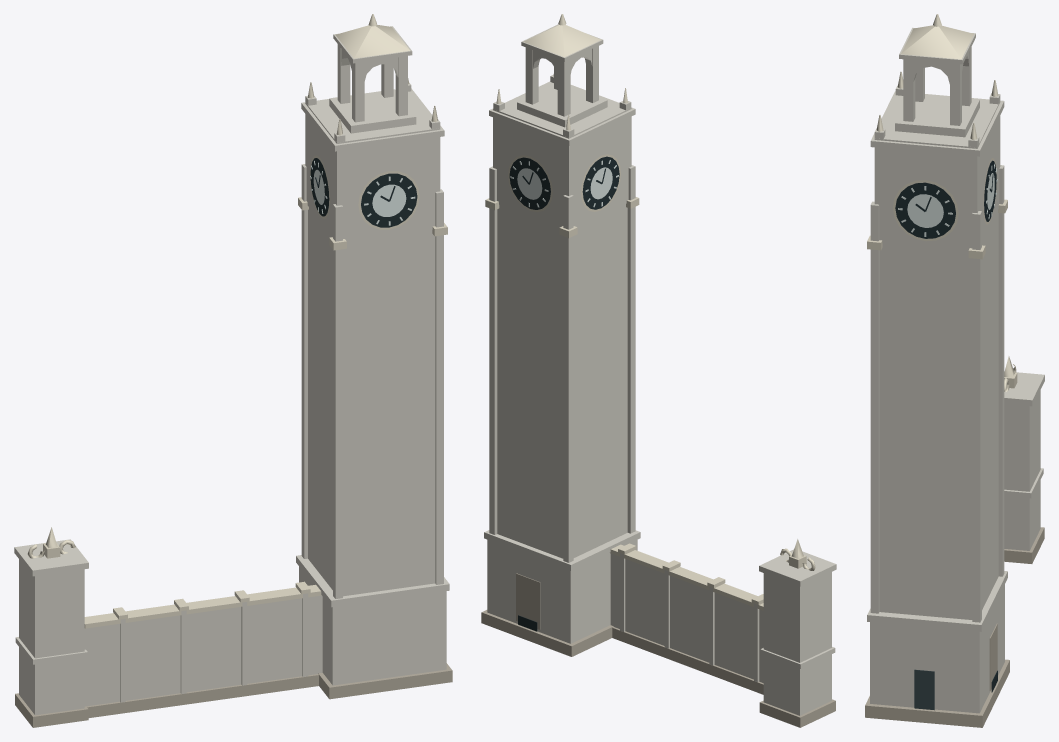
The model's file is tour-de-l-horloge-far.glb.
The picture shows the model from 3 angles, left to right: view 1: azimuth 30°, elevation 25°; view 2: azimuth 150°, elevation 25°; view 3: azimuth 270°, elevation 25°; orthographic projection. The views are drawn at different scales.
Parts seen in each view (by area): view 1: tour-de-l-horloge-0-concrete, tour-de-l-horloge-0-roof, tour-de-l-horloge-0-stone, tour-de-l-horloge-0-iron, tour-de-l-horloge-0-paint; view 2: tour-de-l-horloge-0-concrete, tour-de-l-horloge-0-stone, tour-de-l-horloge-0-roof, tour-de-l-horloge-0-iron, tour-de-l-horloge-0-paint; view 3: tour-de-l-horloge-0-concrete, tour-de-l-horloge-0-roof, tour-de-l-horloge-0-stone, tour-de-l-horloge-0-iron, tour-de-l-horloge-0-paint, tour-de-l-horloge-0-glass.
Part boxes in pixels (<box>): tour-de-l-horloge-0-concrete: <box>14,26,449,715</box>; tour-de-l-horloge-0-roof: <box>27,14,447,628</box>; tour-de-l-horloge-0-stone: <box>15,663,452,727</box>; tour-de-l-horloge-0-iron: <box>310,158,417,227</box>; tour-de-l-horloge-0-paint: <box>310,161,415,225</box>; tour-de-l-horloge-0-concrete: <box>484,24,836,715</box>; tour-de-l-horloge-0-stone: <box>481,573,835,727</box>; tour-de-l-horloge-0-roof: <box>485,14,815,610</box>; tour-de-l-horloge-0-iron: <box>509,156,619,631</box>; tour-de-l-horloge-0-paint: <box>510,160,618,207</box>; tour-de-l-horloge-0-concrete: <box>867,27,1044,713</box>; tour-de-l-horloge-0-roof: <box>867,14,1017,391</box>; tour-de-l-horloge-0-stone: <box>865,527,1044,727</box>; tour-de-l-horloge-0-iron: <box>895,160,997,692</box>; tour-de-l-horloge-0-paint: <box>898,163,997,236</box>; tour-de-l-horloge-0-glass: <box>914,669,934,710</box>.
Size of the model in its own units: 27.56 by 45 by 10.79.
